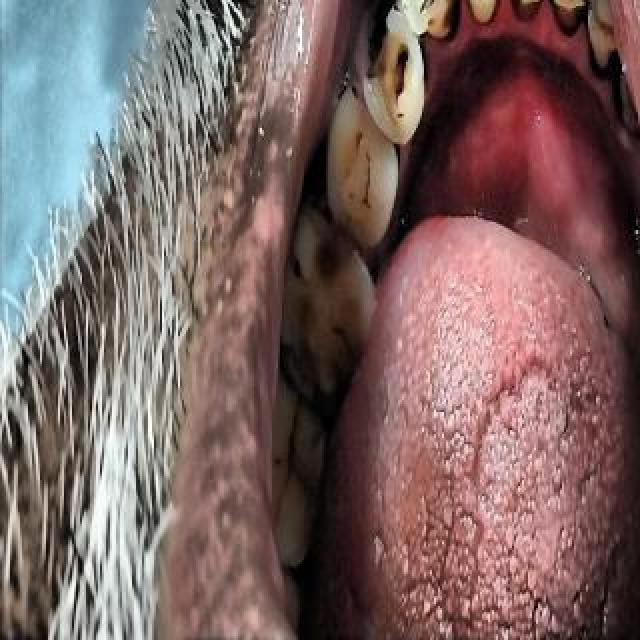cavities: (269, 377, 317, 497), (380, 0, 470, 26)
stains: (572, 20, 640, 104), (298, 260, 348, 364)
